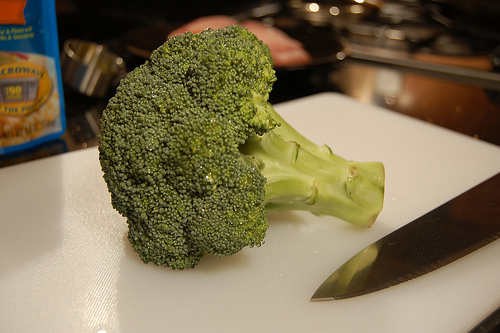broccoli: (98, 34, 382, 271)
